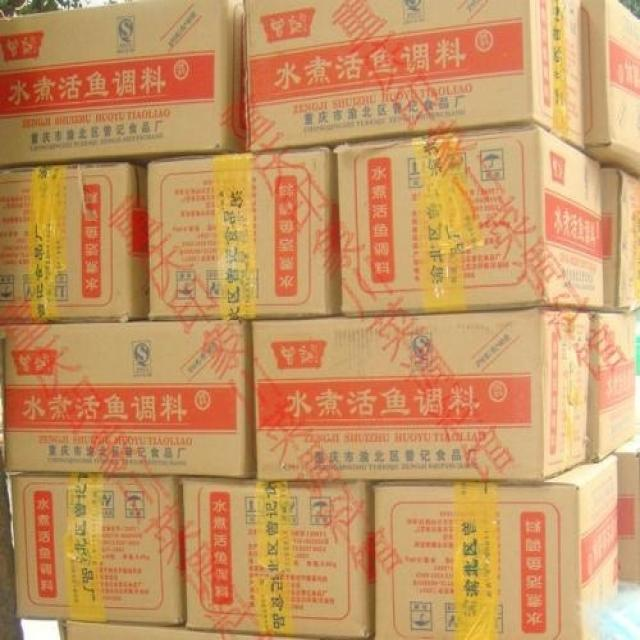box: (253, 307, 590, 481), (334, 122, 604, 317), (243, 0, 585, 152), (374, 455, 620, 640), (0, 0, 247, 166), (0, 319, 256, 478), (148, 145, 340, 319), (180, 476, 375, 640), (12, 474, 183, 627), (0, 159, 148, 324), (582, 0, 640, 178), (588, 309, 637, 462), (58, 618, 376, 640), (603, 168, 640, 313), (609, 432, 640, 585)
